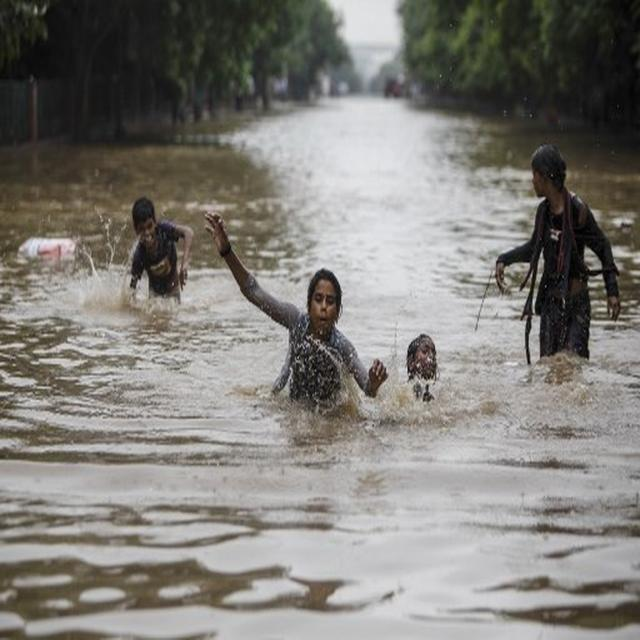Person-RiskLevel3: (200, 207, 394, 421), (489, 140, 626, 366), (108, 190, 202, 316), (393, 319, 459, 409)
